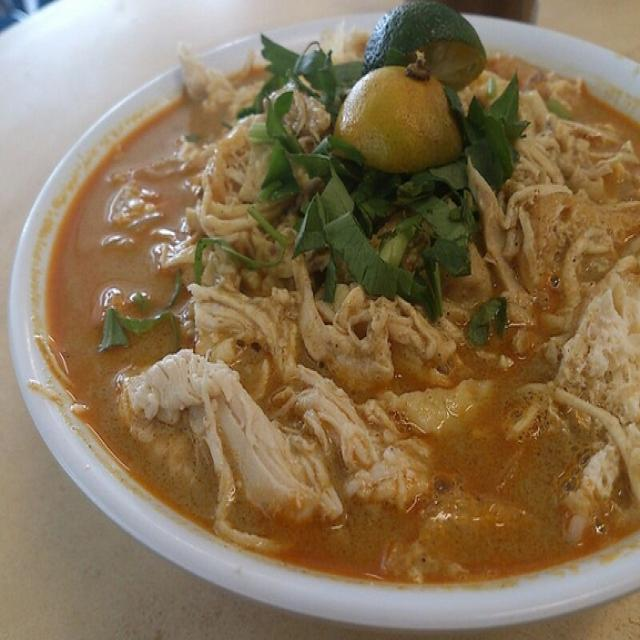面条主食: (36, 18, 634, 618)
